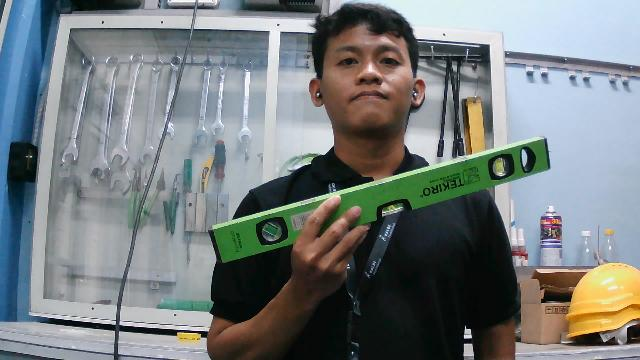water_pass: (203, 129, 553, 267)
